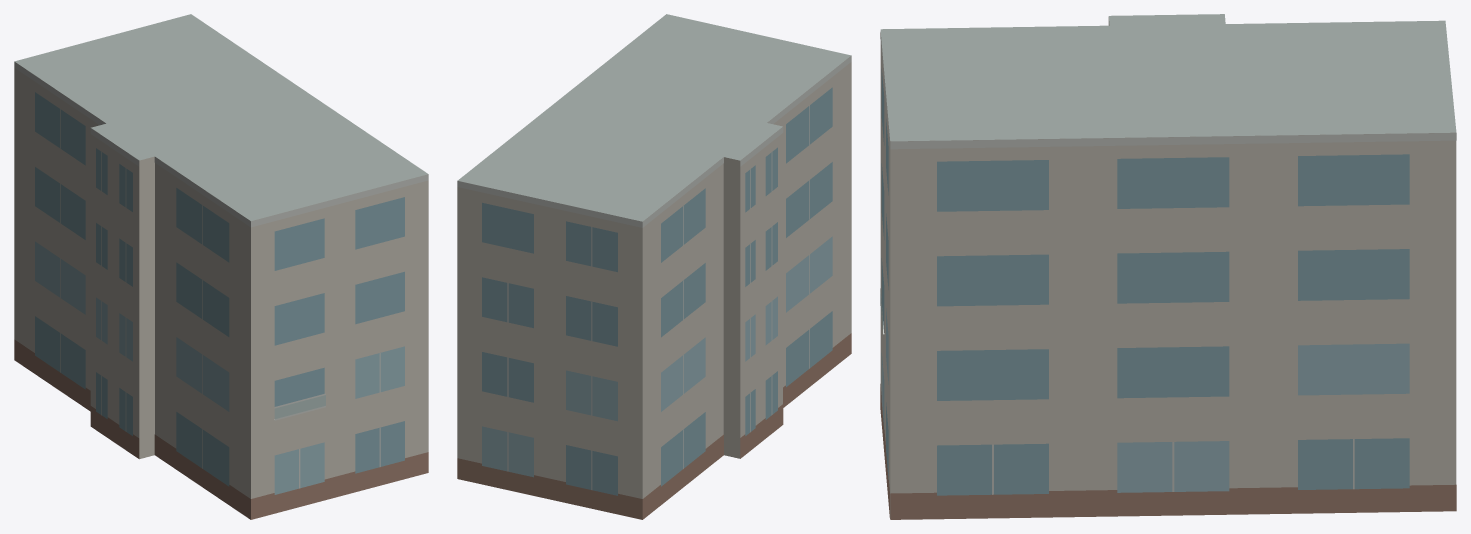
Rendered from survey-upis-32611882.glb.
3 views of the same model, side by side, from view 1: azimuth 30°, elevation 25°; view 2: azimuth 150°, elevation 25°; view 3: azimuth 270°, elevation 25° (orthographic). The views are drawn at different scales.
Visible parts, largest first — view 1: survey-upis-32611882.tmp; view 2: survey-upis-32611882.tmp; view 3: survey-upis-32611882.tmp.
Boxes of the visible parts, left/top/right/bottom form: survey-upis-32611882.tmp: left=14, top=14, right=428, bottom=519; survey-upis-32611882.tmp: left=457, top=14, right=851, bottom=519; survey-upis-32611882.tmp: left=880, top=14, right=1456, bottom=519.
Size of the model in its own units: 8.45 by 11.7 by 16.15.
